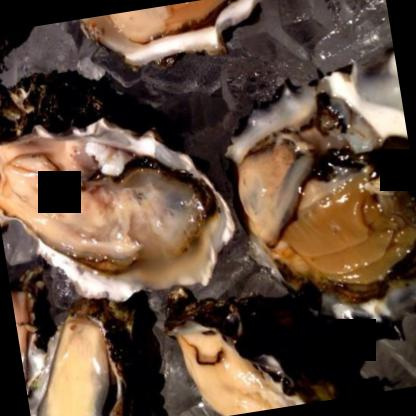oyster: (0, 94, 241, 316), (220, 61, 415, 334), (163, 287, 321, 415), (18, 301, 139, 415)
